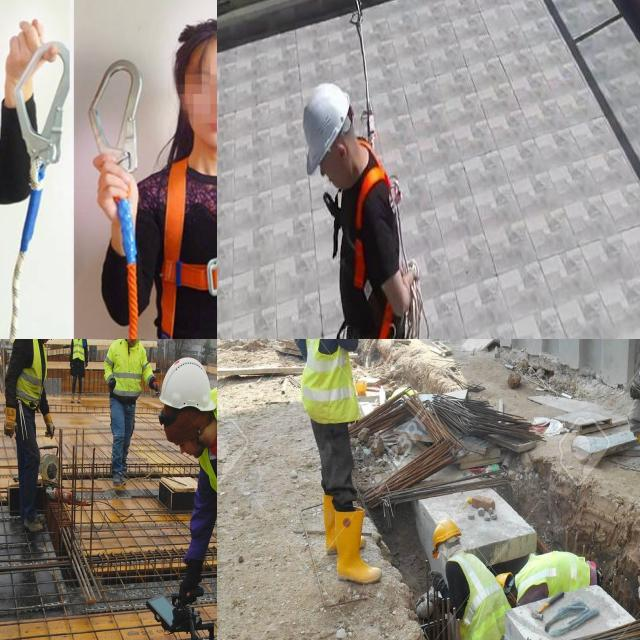Harness: (146, 150, 217, 339), (354, 168, 395, 339)
boots: (329, 502, 390, 588)
face_nomask: (177, 418, 203, 470), (125, 339, 140, 348), (43, 339, 56, 348)
hand_glove: (176, 557, 212, 607), (0, 399, 21, 442), (42, 412, 61, 442), (629, 369, 640, 400)
head_helmet: (160, 358, 212, 413), (425, 513, 462, 543), (493, 565, 514, 592)
person: (307, 339, 386, 591), (159, 360, 217, 640), (424, 515, 509, 640), (491, 556, 612, 619), (15, 339, 52, 527), (106, 339, 151, 486), (71, 339, 90, 402)
shoes: (21, 501, 44, 542), (109, 464, 123, 490)
vest: (454, 560, 503, 640), (308, 339, 356, 419), (523, 552, 592, 600), (45, 404, 83, 464), (18, 339, 42, 403), (71, 339, 90, 366)
